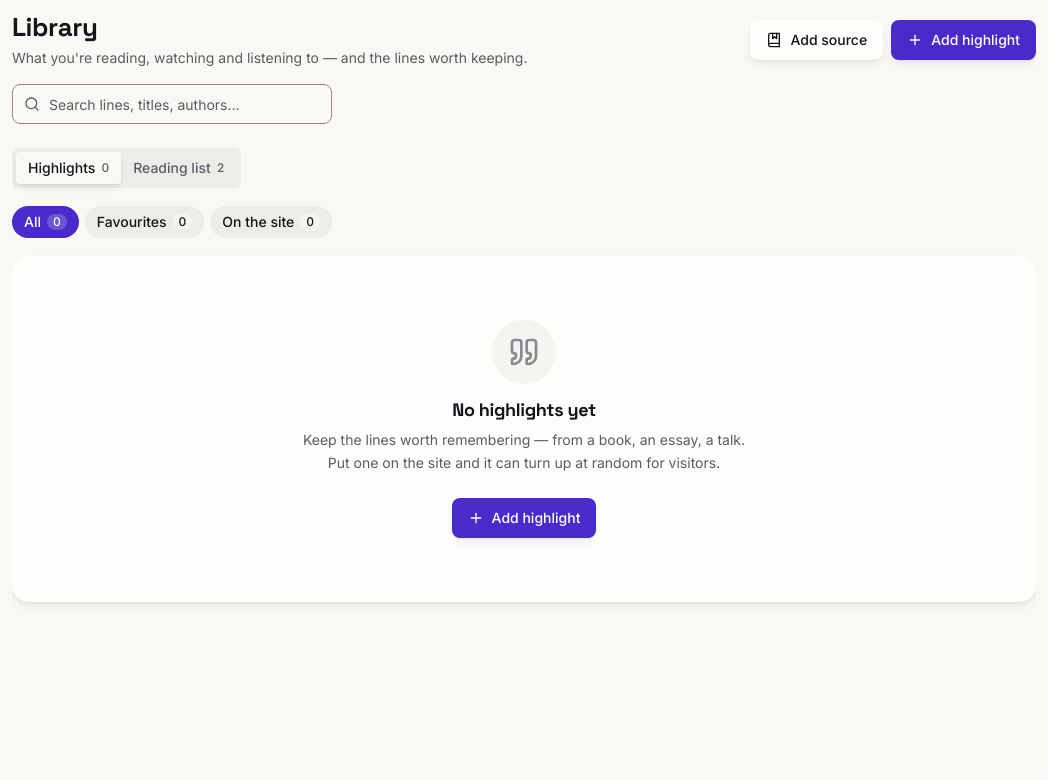
Test: LibraryPage — reading list › offers to play a video here, and opens an article elsewhere
Press the mouse on the tab "Reading list 2" at (179, 168), box [121,152,236,184]
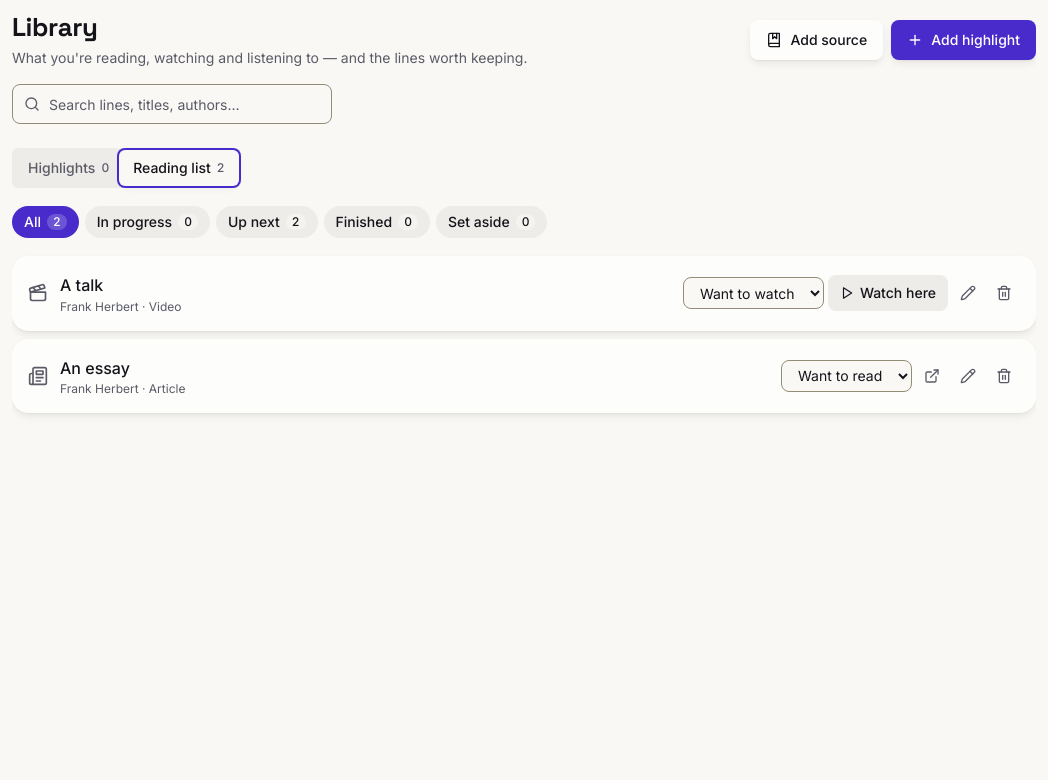
Result: the button "Watch here" is shown at [828,275,948,311]
